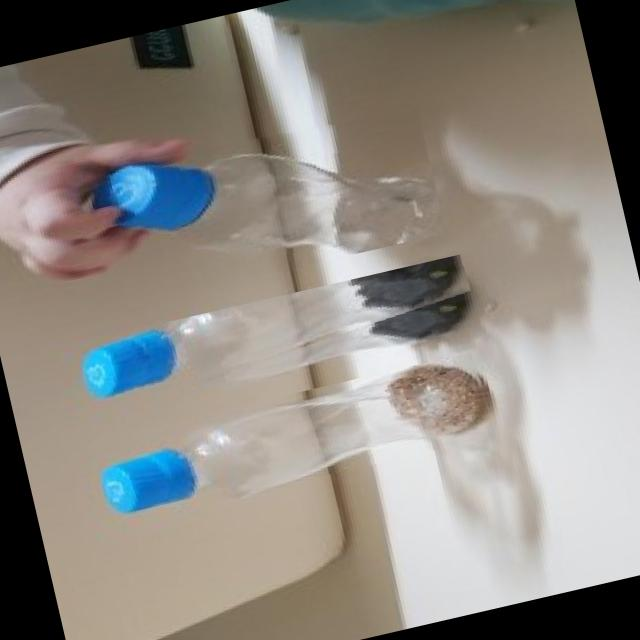plastic bottle: (93, 94, 446, 306), (91, 349, 500, 528), (76, 252, 478, 416)
